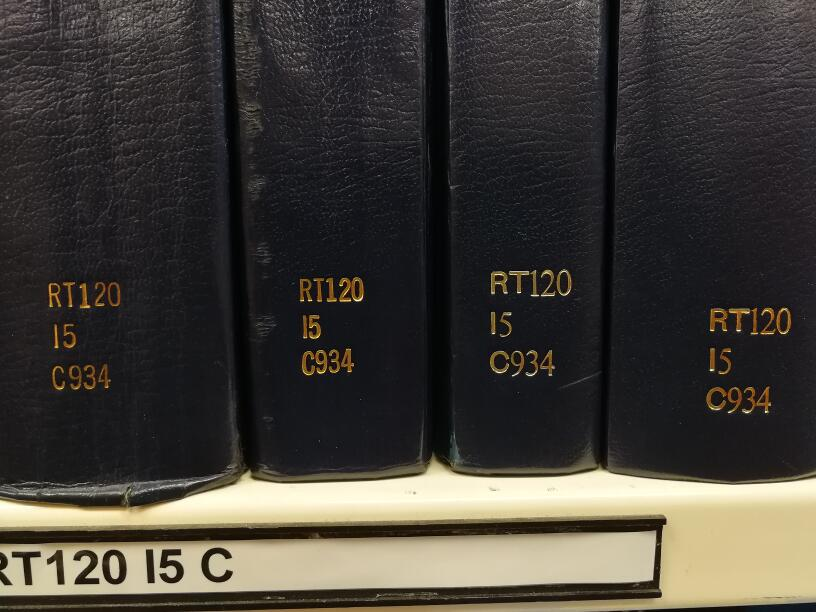booklabel: (483, 264, 578, 382), (701, 302, 795, 420), (42, 273, 126, 397), (291, 271, 372, 382)
